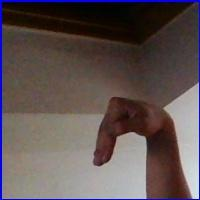A: (91, 90, 172, 173)
